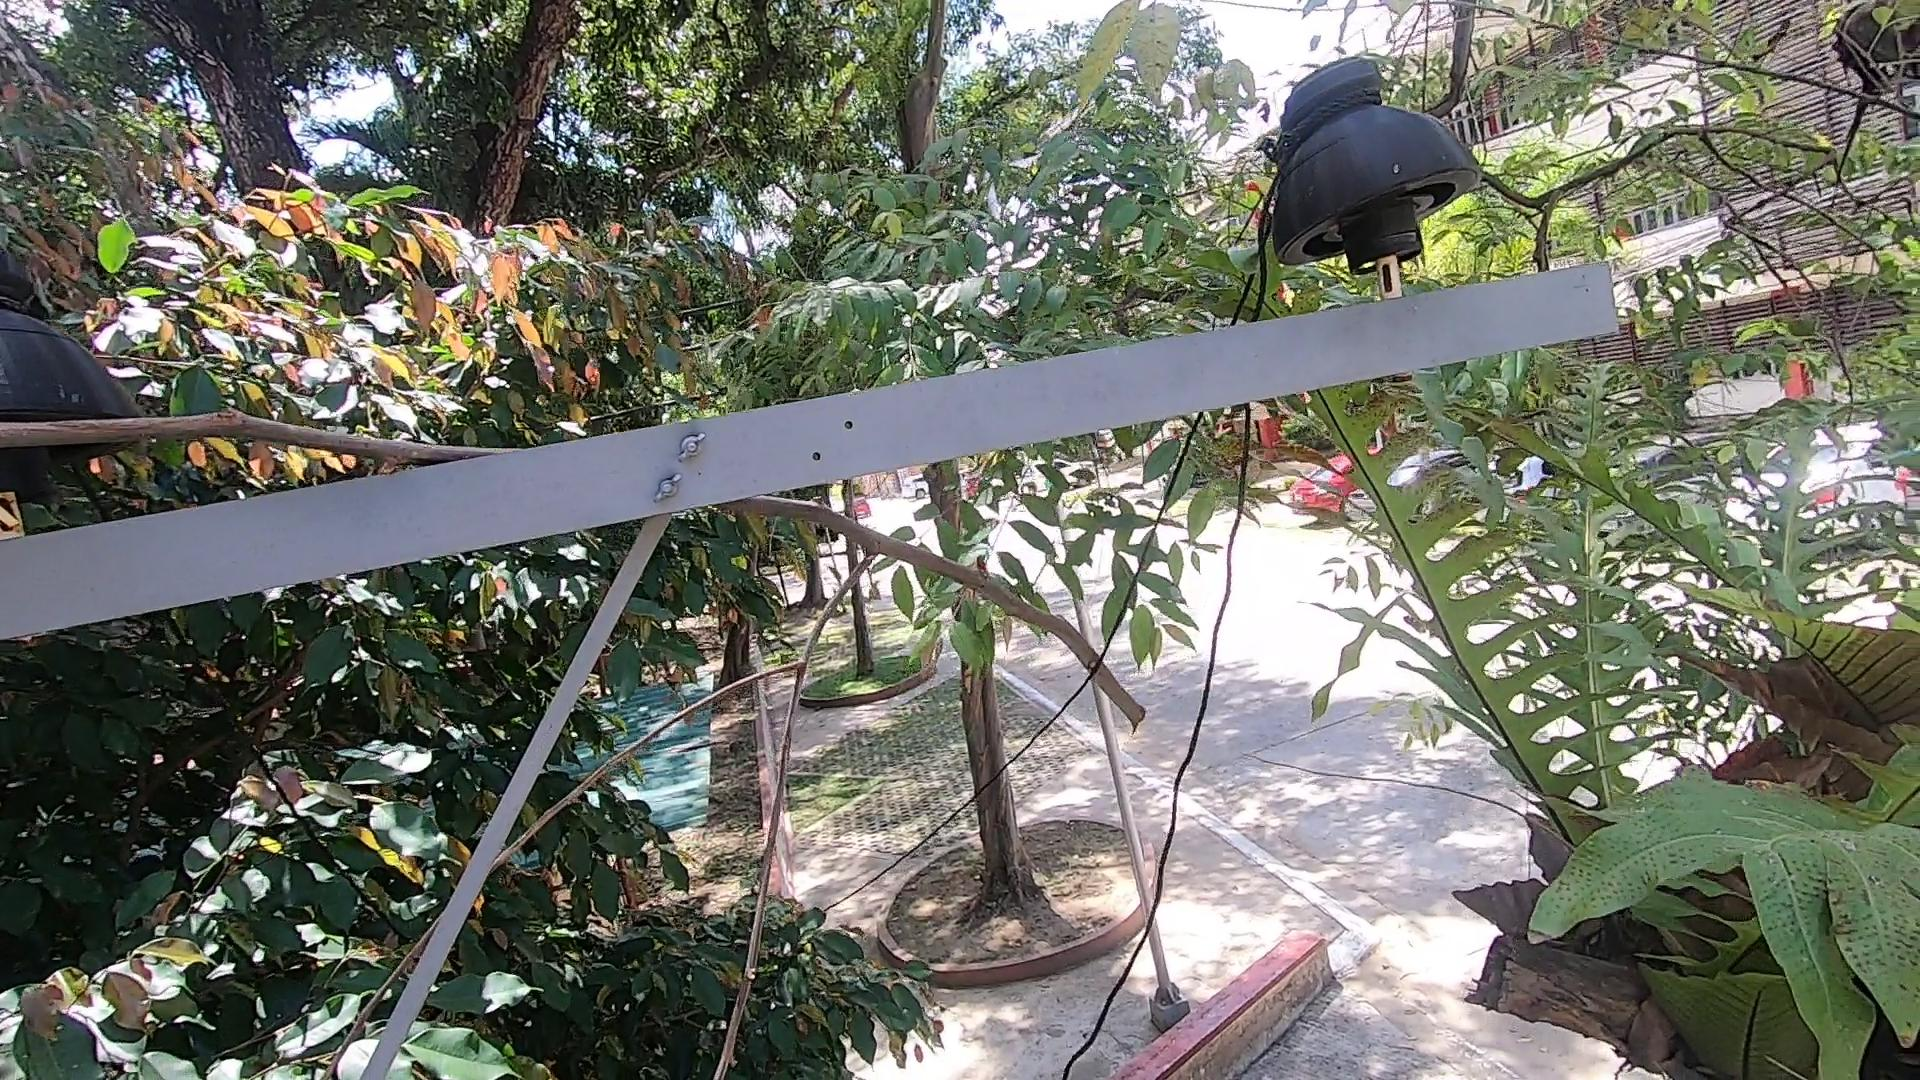tree branch: (334, 491, 1197, 1080), (1, 419, 517, 465)
